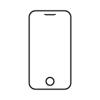Smartphone: (28, 9, 73, 91)
